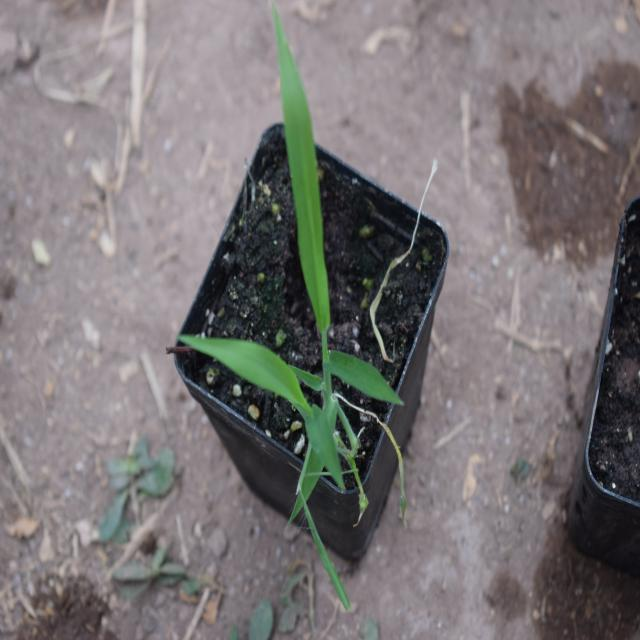crabgrass: (213, 51, 387, 459)
